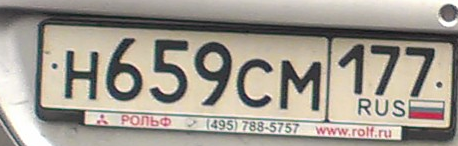character: (148, 34, 192, 107), (193, 38, 230, 109), (279, 58, 323, 117), (235, 55, 276, 113), (61, 46, 103, 101), (106, 38, 142, 100), (402, 42, 437, 100), (335, 42, 368, 102), (367, 42, 402, 96)
